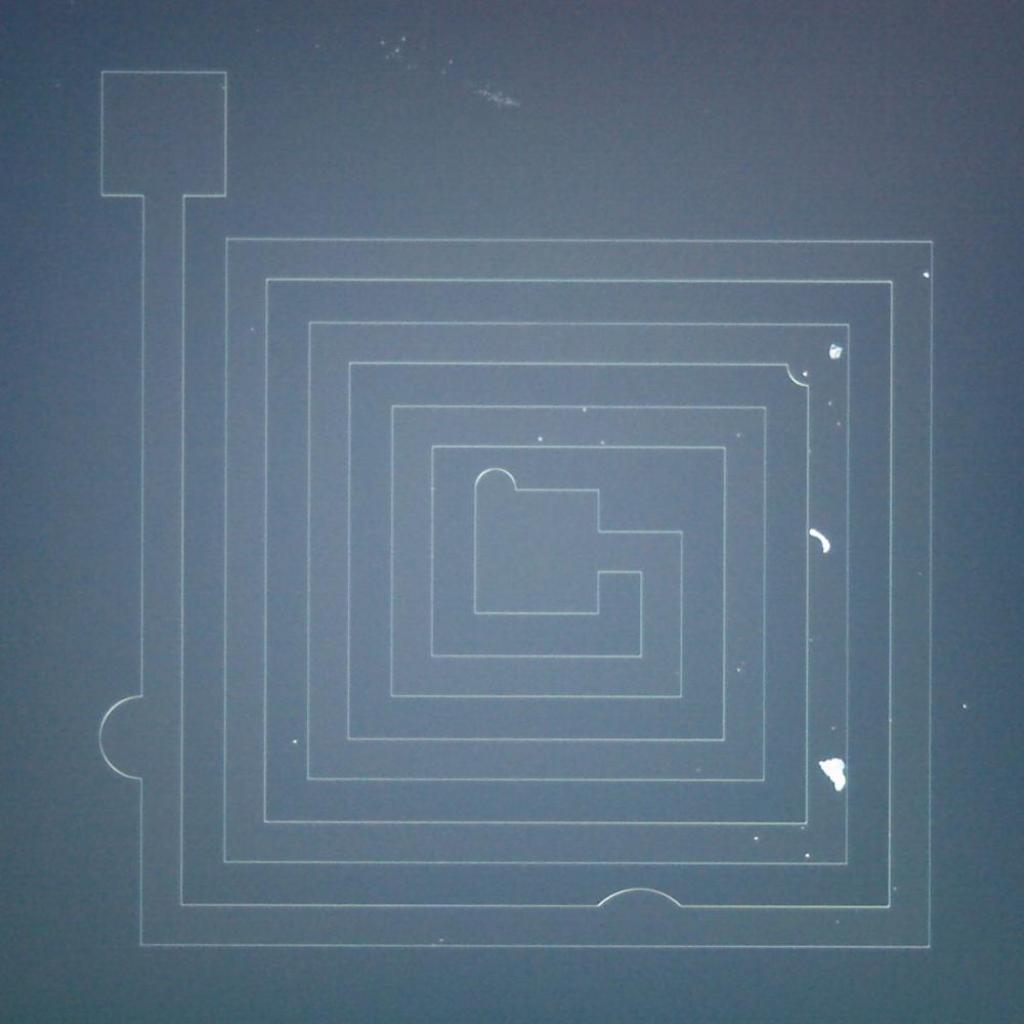Bdot: (815, 756, 846, 786)
curve: (810, 529, 829, 550)
dot: (827, 343, 843, 360), (923, 272, 929, 278), (802, 372, 808, 377), (401, 37, 406, 42), (806, 853, 810, 857), (828, 402, 832, 406), (836, 422, 840, 426), (381, 41, 385, 45), (736, 434, 740, 438), (601, 441, 605, 445), (396, 48, 400, 52), (736, 668, 740, 672), (962, 704, 966, 708), (754, 836, 758, 840), (294, 740, 297, 744), (538, 438, 542, 440)
